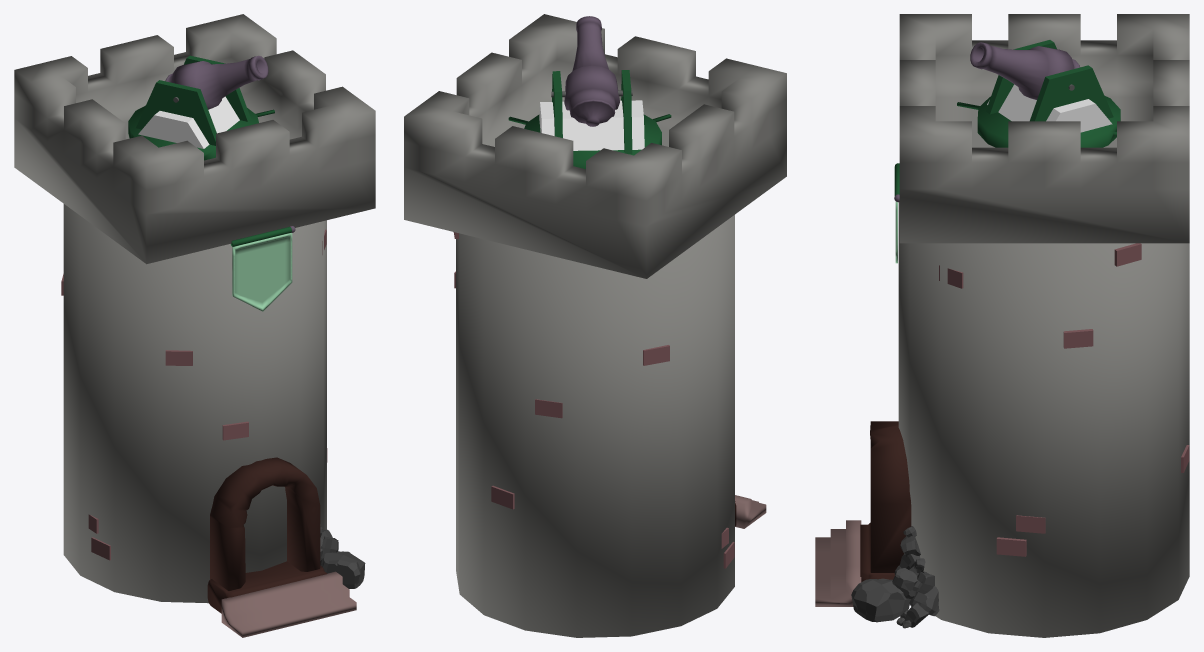
The model's file is TD_tower_lvl_1.glb.
3 views of the same model, side by side, from view 1: azimuth 30°, elevation 25°; view 2: azimuth 150°, elevation 25°; view 3: azimuth 270°, elevation 25° (orthographic). The views are drawn at different scales.
Parts seen in each view (by area): view 1: Tower, Tower topside, Entrance.001, Stairs, Banner.002, Support.001, Cannon, Empty, Entrance, Cube, Stand; view 2: Tower, Tower topside, Cannon, Empty, Support.001, Stand, Stairs; view 3: Tower, Tower topside, Entrance.001, Stairs, Cannon, Support.001, Empty, Stand, Cube, Entrance, Cube.009, Cube.008 (+2 smaller).
Boxes of the visible parts, left/top/right/bottom form: Tower: left=63, top=204, right=326, bottom=603; Tower topside: left=14, top=14, right=375, bottom=264; Entrance.001: left=210, top=457, right=320, bottom=590; Stairs: left=221, top=571, right=356, bottom=637; Banner.002: left=232, top=233, right=292, bottom=311; Support.001: left=136, top=55, right=250, bottom=145; Cannon: left=165, top=55, right=268, bottom=109; Empty: left=138, top=96, right=239, bottom=148; Entrance: left=207, top=561, right=327, bottom=613; Cube: left=322, top=551, right=365, bottom=588; Stand: left=128, top=105, right=274, bottom=160; Tower: left=456, top=215, right=734, bottom=637; Tower topside: left=404, top=14, right=786, bottom=278; Cannon: left=564, top=16, right=619, bottom=126; Empty: left=539, top=100, right=644, bottom=150; Support.001: left=552, top=70, right=632, bottom=153; Stand: left=508, top=114, right=671, bottom=168; Stairs: left=735, top=495, right=766, bottom=528; Tower: left=898, top=202, right=1189, bottom=637; Tower topside: left=899, top=14, right=1189, bottom=243; Entrance.001: left=870, top=421, right=911, bottom=572; Stairs: left=815, top=520, right=861, bottom=606; Cannon: left=970, top=42, right=1079, bottom=99; Support.001: left=986, top=40, right=1113, bottom=121; Empty: left=987, top=84, right=1112, bottom=132; Stand: left=957, top=96, right=1120, bottom=147; Cube: left=851, top=578, right=910, bottom=622; Entrance: left=860, top=522, right=894, bottom=581; Cube.009: left=1063, top=329, right=1093, bottom=348; Cube.008: left=996, top=537, right=1026, bottom=556.
Bounding box in the file's own units: 2.01 × 4.24 × 2.58.
